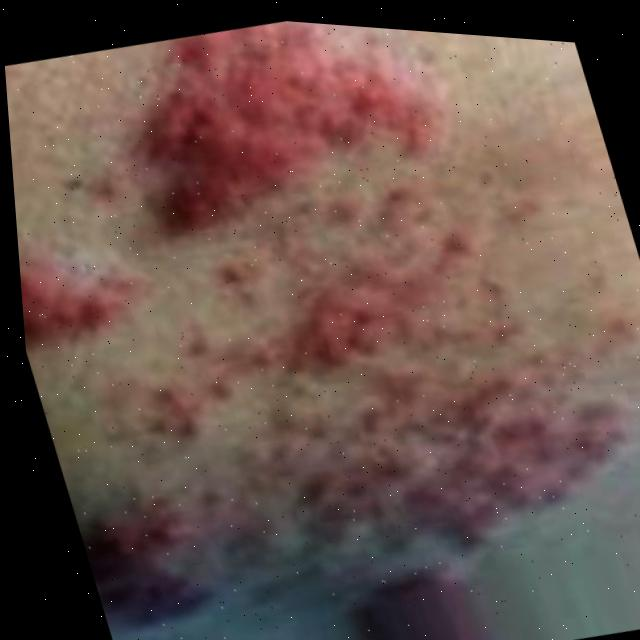Shingles: (18, 235, 632, 640), (130, 10, 477, 231), (18, 241, 145, 349)
